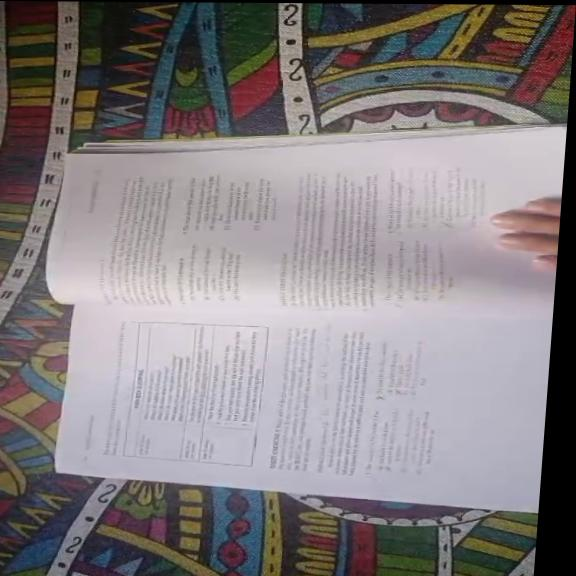Kertas: (60, 269, 555, 476), (63, 141, 489, 312)
